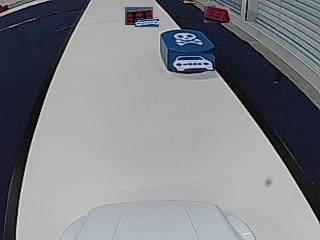danger: (173, 32, 204, 46)
